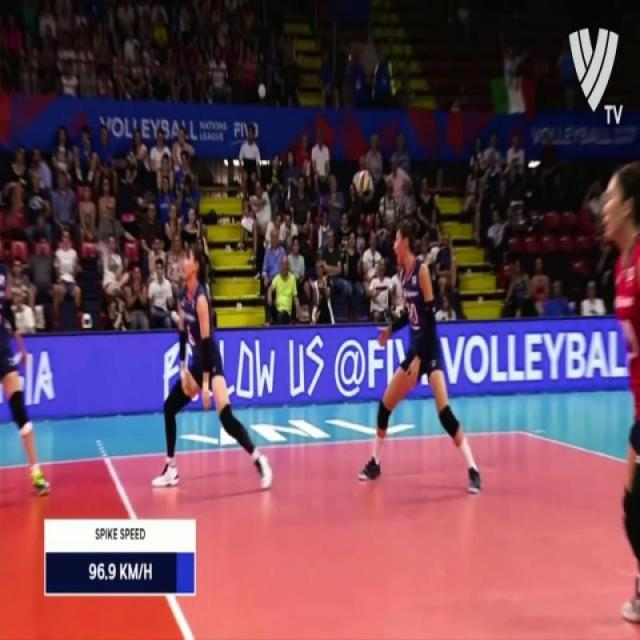volleyball: (359, 172, 369, 190)
